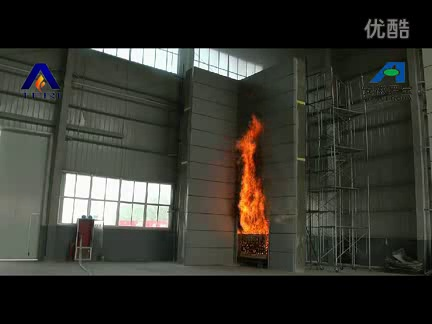fire: (238, 118, 272, 234)
